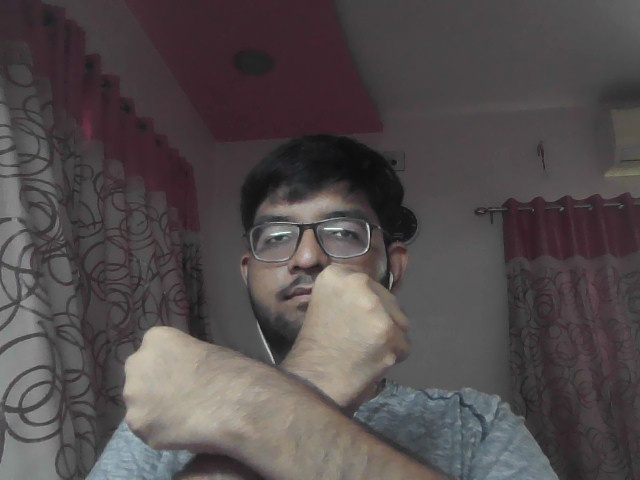પ્રેમ: (113, 261, 457, 480)
